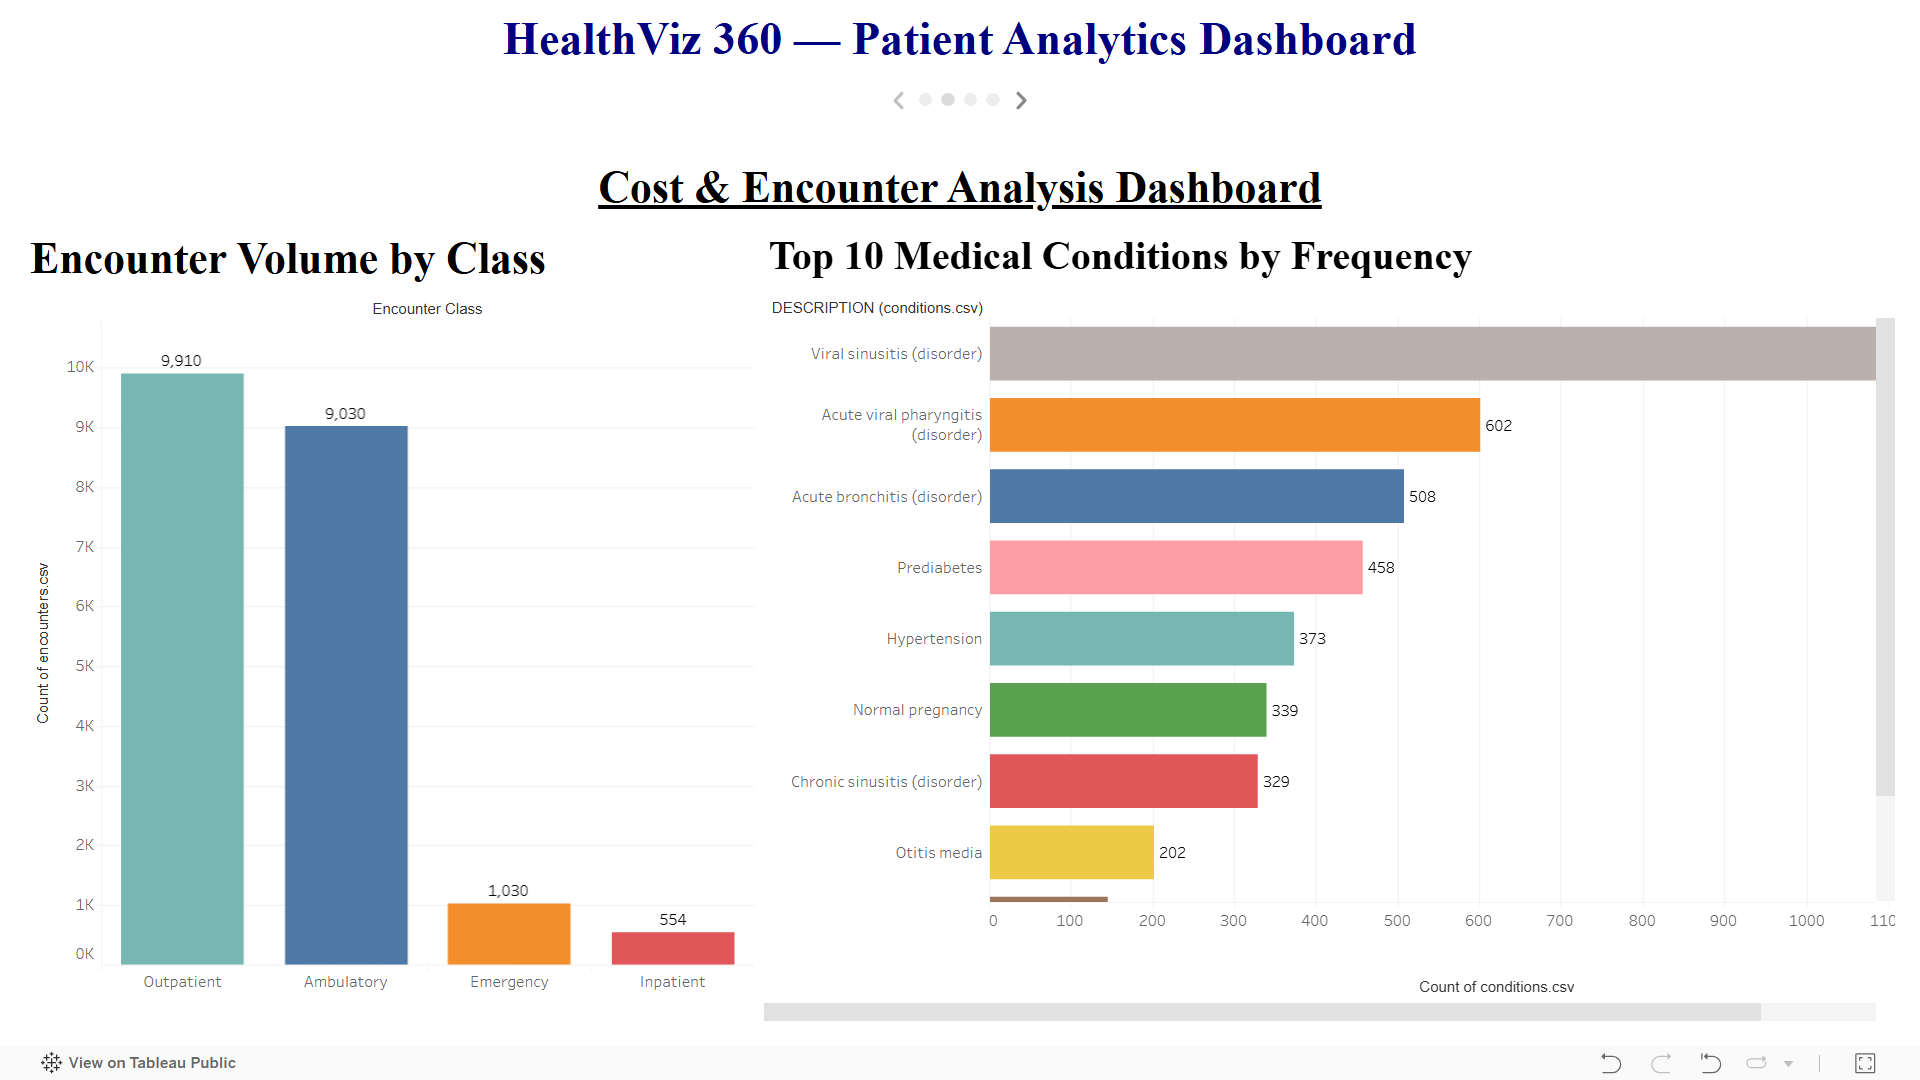

This screenshot's page, from the dashboard's own definition file:
{"tool":"tableau","page":{"name":"Dashboard 2","canvas":[1000,1000],"units":"permille","ordinal":1},"visuals":[{"type":"title","box":[4.7,10,990.6,74.9]},{"type":"worksheet","title":"Sheet 9","mark":"Automatic","rows":["encounters.csv_6B7C309507B546AF8128E5F8C58A38C5"],"cols":["Calculation_1101202903629825"],"box":[4.7,84.9,389,905.1]},{"type":"worksheet","title":"Sheet 10","mark":"Automatic","rows":["DESCRIPTION (conditions.csv)"],"cols":["conditions.csv_F8F9D6F5B70A45C0A161901B2F043375"],"box":[393.7,84.9,601.6,905.1]}]}

Visuals, with their boxes on the dashboard's canvas, which has no fixed pixel size, in thousandths of its width and height (x1, y1, x2, y2). These are canvas units, not pixel positions in the 1920x1080 screenshot, which may show the page scaled, cropped or inside an application window:
title: left=5, top=10, right=995, bottom=85
"Sheet 9" worksheet: left=5, top=85, right=394, bottom=990
"Sheet 10" worksheet: left=394, top=85, right=995, bottom=990
